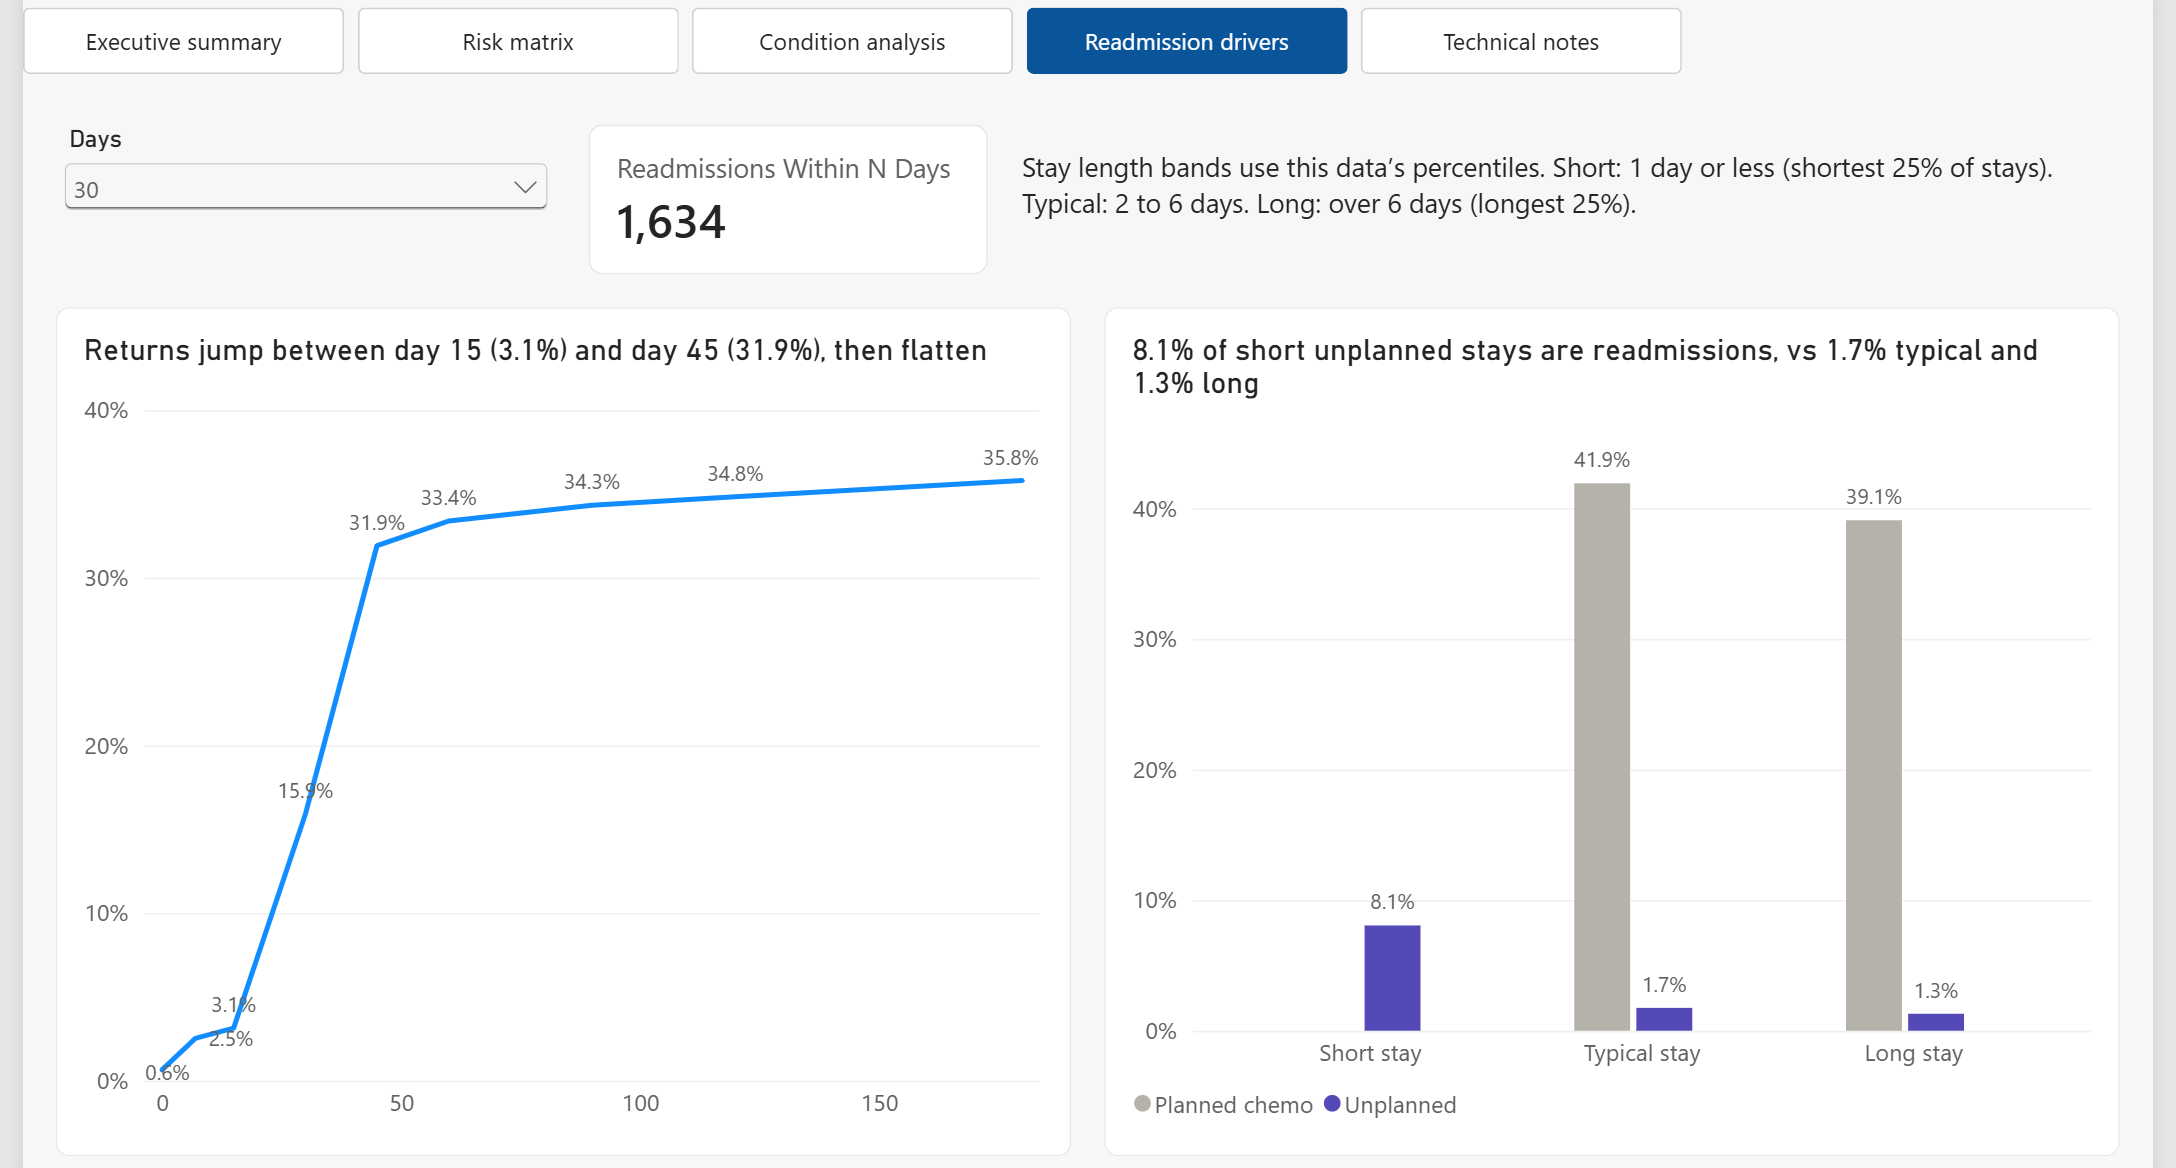

Layout of this report page (visuals, bound fields, positions):
{"tool":"powerbi","page":{"name":"Readmission drivers","canvas":[1280,720],"ordinal":3},"visuals":[{"type":"slicer","fields":{"Values":["Day_Threshold.Days"]},"box":[20,80,300,90],"z":0},{"type":"cardVisual","fields":{"Data":["_Measures.Readmissions Within N Days"]},"box":[340,80,240,90],"z":1000},{"type":"lineChart","title":"Returns jump between day 15 (3.1%) and day 45 (31.9%), then flatten","fields":{"Category":["Day_Threshold.Days"],"Y":["_Measures.Readmission Rate Within N"]},"box":[20,190,610,510],"z":2000},{"type":"clusteredColumnChart","title":"8.1% of short unplanned stays are readmissions, vs 1.7% typical and 1.3% long","fields":{"Category":["fact_encounters.LOS Band"],"Series":["fact_encounters.Stay Type"],"Y":["_Measures.Readmission Rate"]},"box":[650,190,610,510],"z":3000},{"type":"pageNavigator","box":[0,10,1000,40],"z":4000},{"type":"textbox","box":[600,95,660,60],"z":5000}]}

Visuals, with their boxes on the page's 1280x720 design canvas (x1, y1, x2, y2). These are canvas units, not pixel positions in the 2176x1168 screenshot, which may show the page scaled, cropped or inside an application window:
slicer - Day_Threshold.Days: 20,80,320,170
cardVisual - _Measures.Readmissions Within N Days: 340,80,580,170
"Returns jump between day 15 (3.1%) and day 45 (31.9%), then flatten" lineChart: 20,190,630,700
"8.1% of short unplanned stays are readmissions, vs 1.7% typical and 1.3% long" clusteredColumnChart: 650,190,1260,700
pageNavigator: 0,10,1000,50
textbox: 600,95,1260,155
